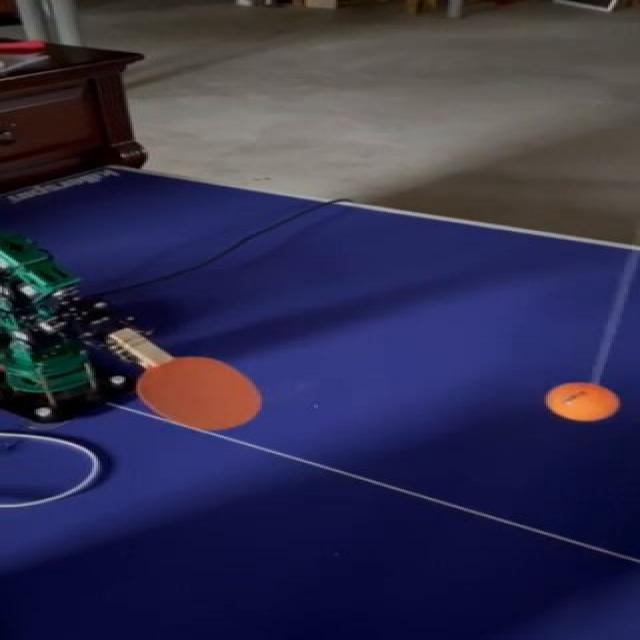ping-pong-ball: (544, 380, 614, 420)
